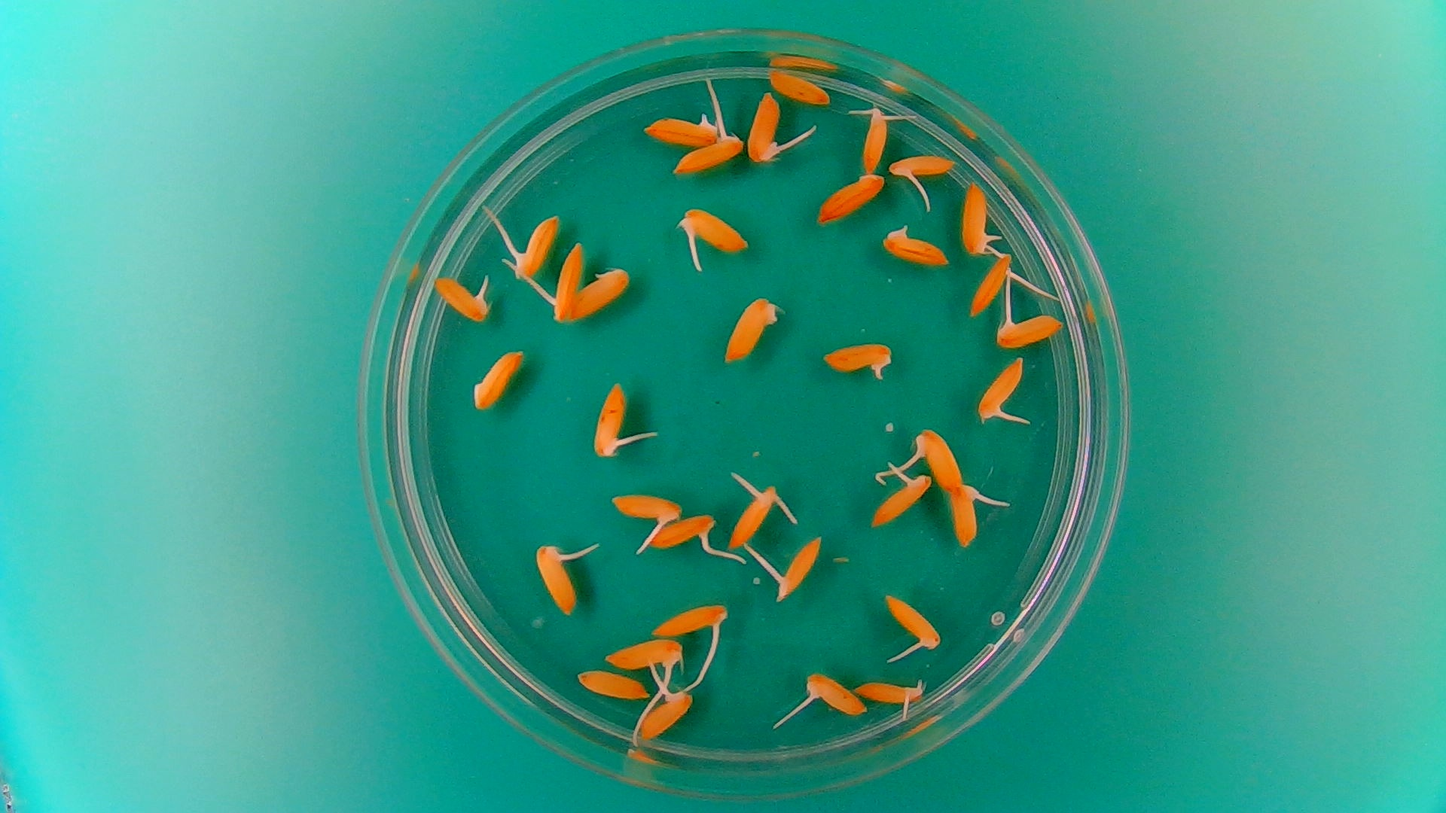no: (720, 279, 780, 367), (566, 265, 635, 333), (813, 168, 887, 226), (470, 346, 523, 412), (765, 66, 834, 107), (572, 666, 650, 702)
yes: (868, 461, 934, 529), (764, 531, 826, 601), (588, 379, 640, 461), (670, 128, 746, 178), (633, 682, 696, 742), (532, 542, 582, 617), (648, 598, 731, 643), (509, 207, 560, 280), (882, 592, 943, 653), (975, 355, 1027, 425), (678, 202, 752, 251), (819, 337, 898, 382), (642, 511, 721, 555), (728, 481, 779, 549), (960, 179, 1003, 257), (879, 222, 951, 268), (799, 671, 868, 718), (606, 489, 685, 529), (432, 273, 493, 324), (599, 635, 685, 671), (914, 432, 964, 492), (550, 239, 587, 319), (855, 102, 895, 175), (746, 87, 782, 166), (966, 255, 1011, 318), (886, 149, 959, 185), (993, 312, 1063, 349), (639, 113, 714, 147), (950, 482, 985, 550), (853, 677, 927, 709)
